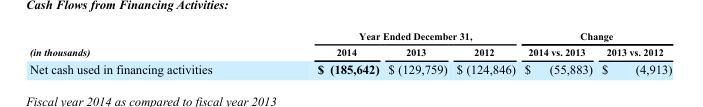table: (28, 29, 671, 76)
table column: (28, 29, 264, 76), (264, 29, 383, 76), (519, 29, 596, 76), (596, 29, 671, 76), (383, 29, 451, 76), (451, 29, 519, 76)
table column header: (28, 29, 671, 59)
table row: (28, 59, 671, 76), (28, 43, 671, 59), (28, 29, 671, 43)
table spanning cell: (28, 29, 264, 59), (264, 29, 519, 43), (519, 29, 671, 43)
